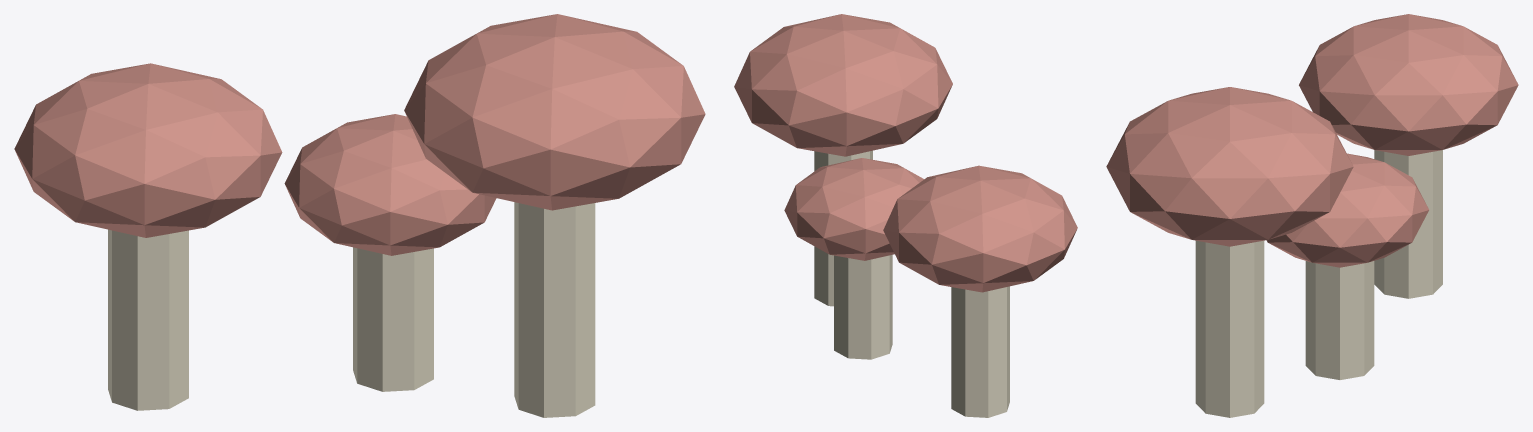
The model's file is mushroom_patch.glb.
3 views of the same model, side by side, from view 1: azimuth 30°, elevation 25°; view 2: azimuth 150°, elevation 25°; view 3: azimuth 270°, elevation 25° (orthographic). The views are drawn at different scales.
Parts seen in each view (by area): view 1: mushroom_patch_1, mushroom_patch_0; view 2: mushroom_patch_1, mushroom_patch_0; view 3: mushroom_patch_1, mushroom_patch_0.
Boxes of the visible parts, x1,y1,x2,y2 form: mushroom_patch_1: (14,14,705,255); mushroom_patch_0: (108,202,595,417); mushroom_patch_1: (734,14,1077,292); mushroom_patch_0: (814,150,1009,417); mushroom_patch_1: (1106,14,1518,267); mushroom_patch_0: (1195,150,1442,417).
Bounding box in the file's own units: 0.75 × 0.479 × 0.6.
